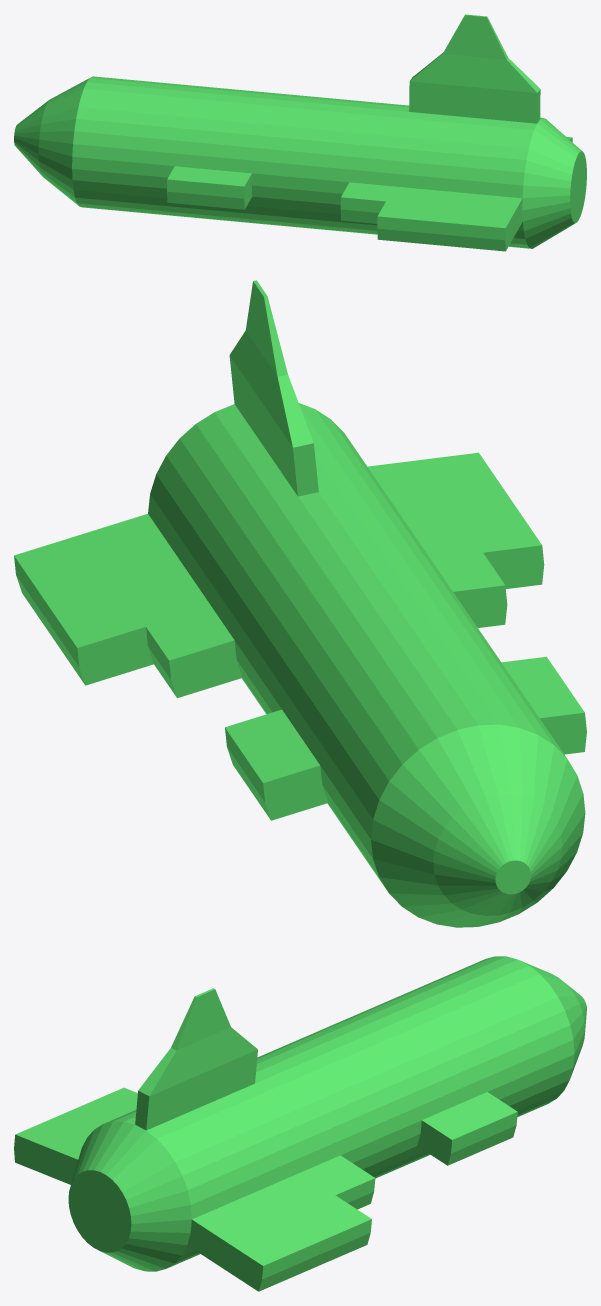
The model's file is peluru.glb.
3 views of the same model, one above another, from view 1: azimuth 30°, elevation 25°; view 2: azimuth 150°, elevation 25°; view 3: azimuth 270°, elevation 25° (orthographic). The views are drawn at different scales.
Visible parts, largest first — view 1: Cylinder.001; view 2: Cylinder.001; view 3: Cylinder.001.
Part boxes in pixels (x1,y1,x2,y2): Cylinder.001: [14, 14, 586, 251]; Cylinder.001: [14, 280, 586, 927]; Cylinder.001: [14, 956, 586, 1291].
Size of the model in its own units: 1.54 by 0.7439 by 1.48.
